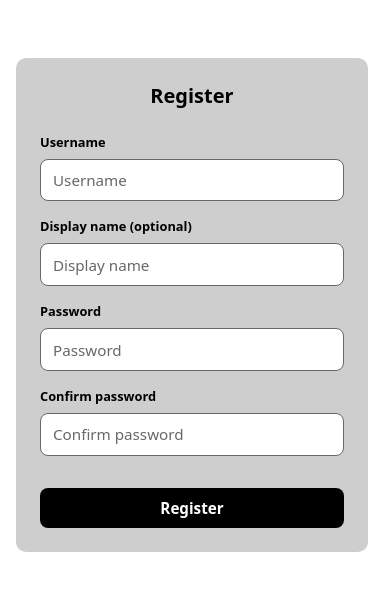
Test: RegisterPage › rejects short password locally
This screenshot has width=385, height=611.
Type "tester" into the field labelled "Username" at (192, 180), box [40, 158, 344, 201]
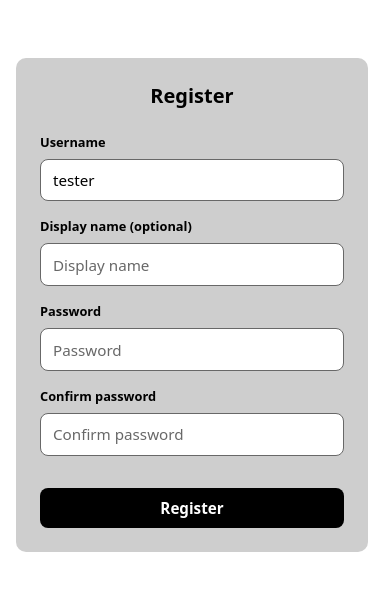
Type "short" into the password field labelled "Password" at (192, 350), box [40, 328, 344, 371]
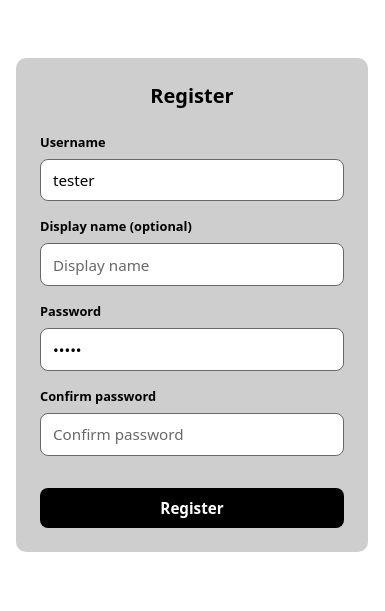
Type "short" into the password field labelled "Confirm password" at (192, 434), box [40, 413, 344, 456]
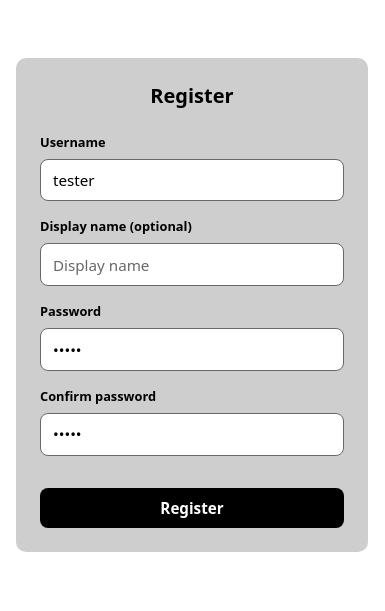
Submit the form with id "login-form"
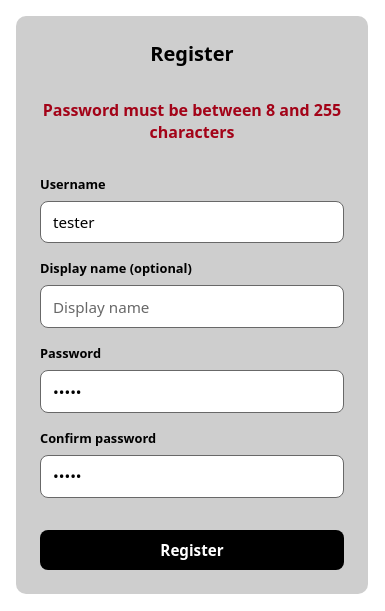
Check: the text "Password must be between 8 and 255 characters" is shown, box [40, 98, 344, 142]
